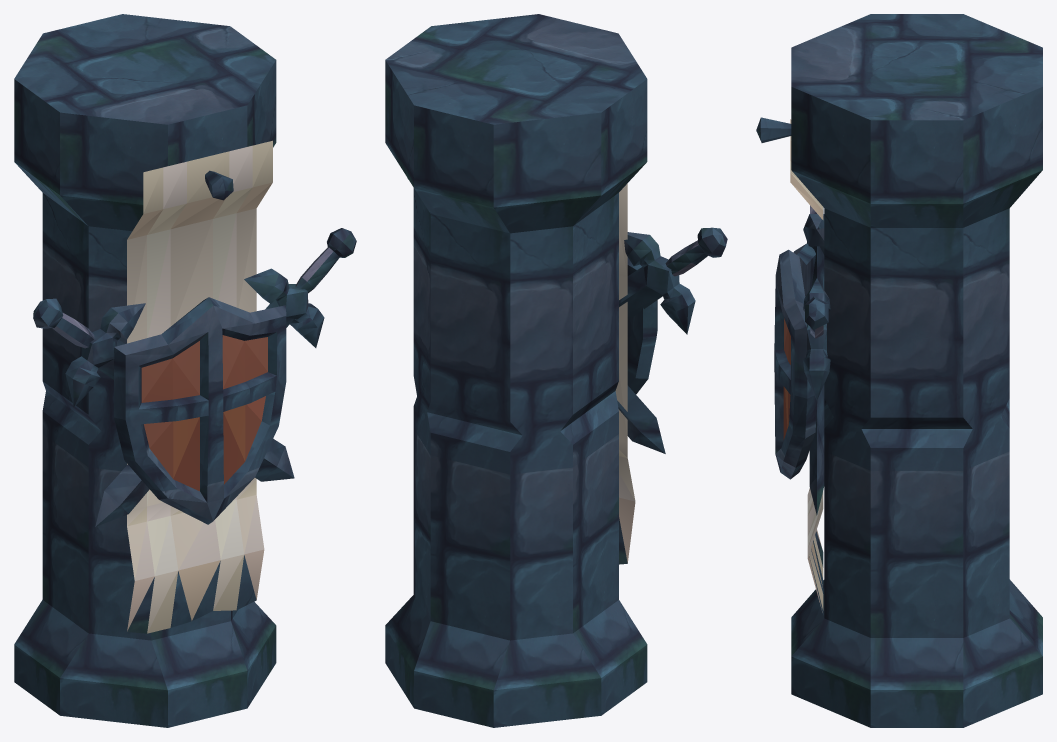
File: pillar_decorated.gltf
3 renders of one model, left to right at view 1: azimuth 30°, elevation 25°; view 2: azimuth 150°, elevation 25°; view 3: azimuth 270°, elevation 25°, orthographic.
Visible parts, largest first — view 1: pillar_decorated; view 2: pillar_decorated; view 3: pillar_decorated.
Part boxes in pixels (x1,y1,x2,y2): pillar_decorated: [14, 14, 356, 727]; pillar_decorated: [385, 14, 727, 727]; pillar_decorated: [756, 14, 1042, 727].
Bounding box in the file's own units: 2.23 × 4 × 1.71.
Materials: 19 (2 with a texture image).
